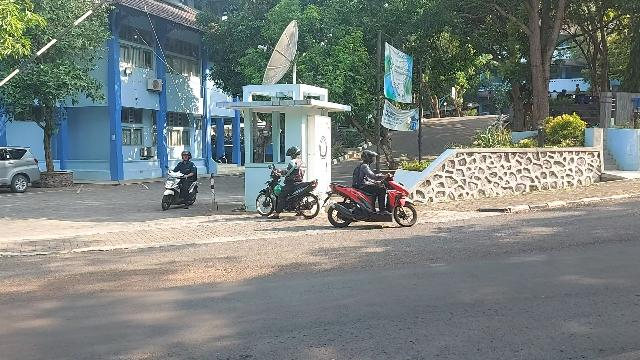helm: (363, 151, 379, 165), (287, 147, 302, 160), (183, 151, 192, 161)
motor: (322, 163, 418, 228), (257, 166, 326, 220), (163, 167, 199, 212)
